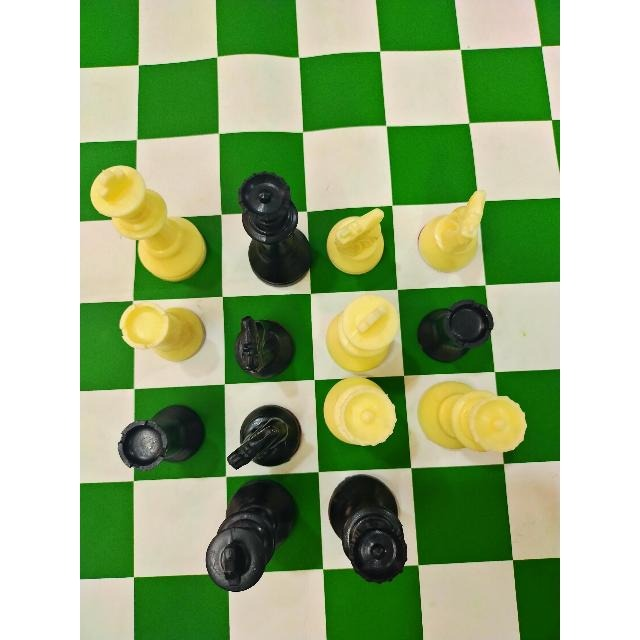black-king: (193, 477, 301, 593)
black-knight: (225, 404, 305, 470), (230, 308, 296, 378)
black-queen: (323, 470, 409, 586), (236, 168, 317, 286)
black-rook: (111, 395, 209, 468), (415, 294, 495, 364)
white-king: (87, 162, 209, 283), (321, 293, 403, 375)
white-knight: (410, 190, 488, 274), (323, 209, 385, 279)
white-queen: (409, 378, 530, 456), (322, 373, 402, 449)
white-rook: (112, 294, 208, 360)
